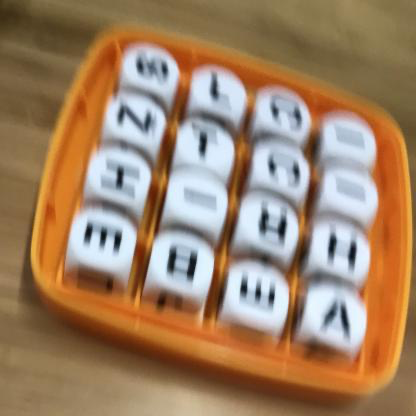a: (309, 282, 366, 344)
b: (156, 231, 213, 297)
c: (259, 84, 310, 140), (254, 143, 308, 192)
e: (74, 207, 138, 270), (231, 259, 287, 323)
h: (90, 148, 151, 205), (243, 194, 299, 254), (316, 221, 371, 279)
i: (171, 170, 225, 225), (326, 112, 375, 163), (326, 176, 376, 212)
l: (194, 62, 246, 121)
s: (127, 40, 179, 95)
t: (184, 120, 231, 173)
z: (111, 90, 166, 147)
